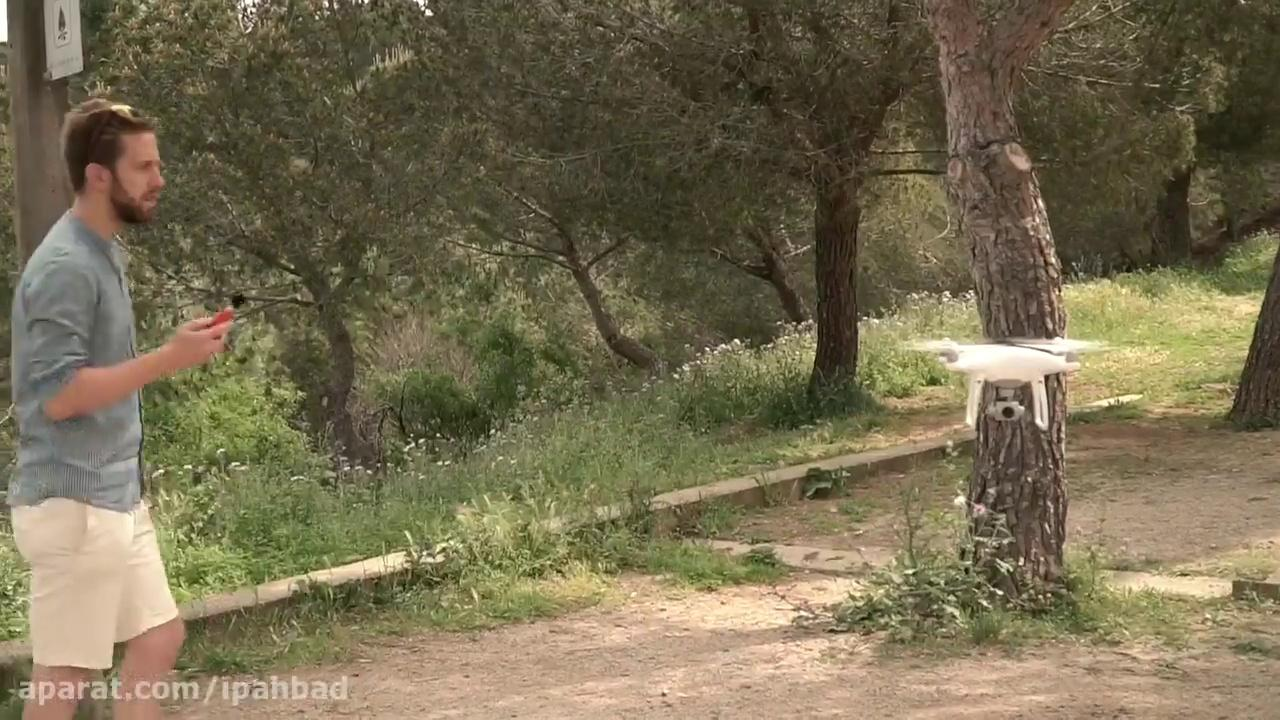drone: (899, 332, 1107, 428)
